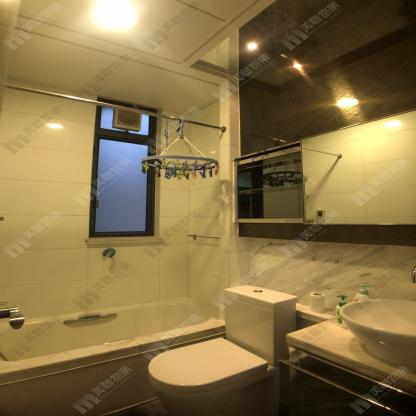Bathtub: (0, 295, 230, 416)
Exhaust Fan: (113, 108, 142, 132)
Toilet: (145, 283, 297, 416)
Toilet Sink: (337, 295, 416, 368)
